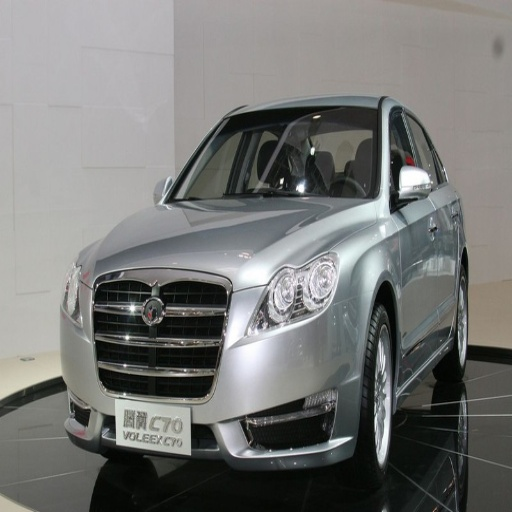front_bumper: (61, 257, 368, 471)
front_glass: (163, 108, 378, 202)
front_left_door: (387, 105, 438, 354)
